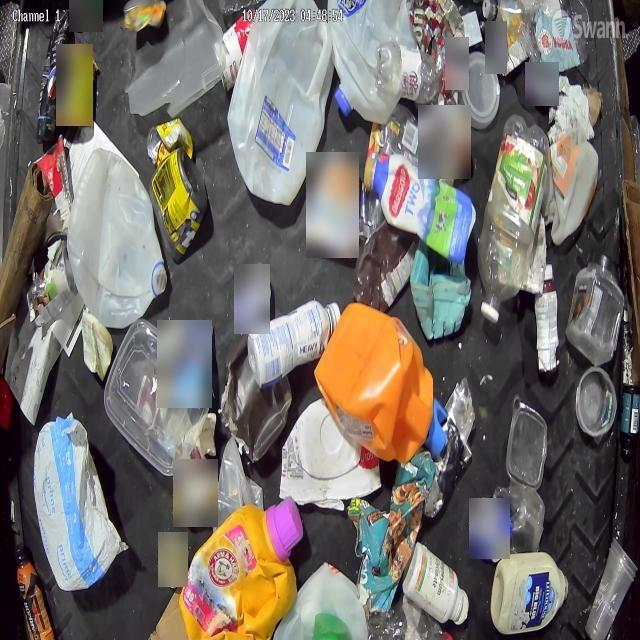milk_jug: (67, 117, 167, 328), (229, 11, 328, 206), (328, 0, 418, 116), (270, 562, 368, 640), (546, 136, 598, 246)
non_white_jug: (314, 302, 434, 464)
plastic_bottle: (375, 41, 450, 102)
